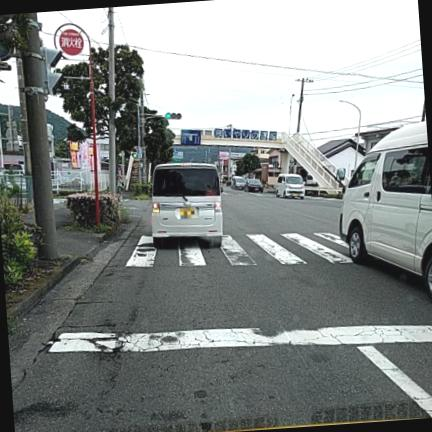Road: (9, 188, 431, 431)
